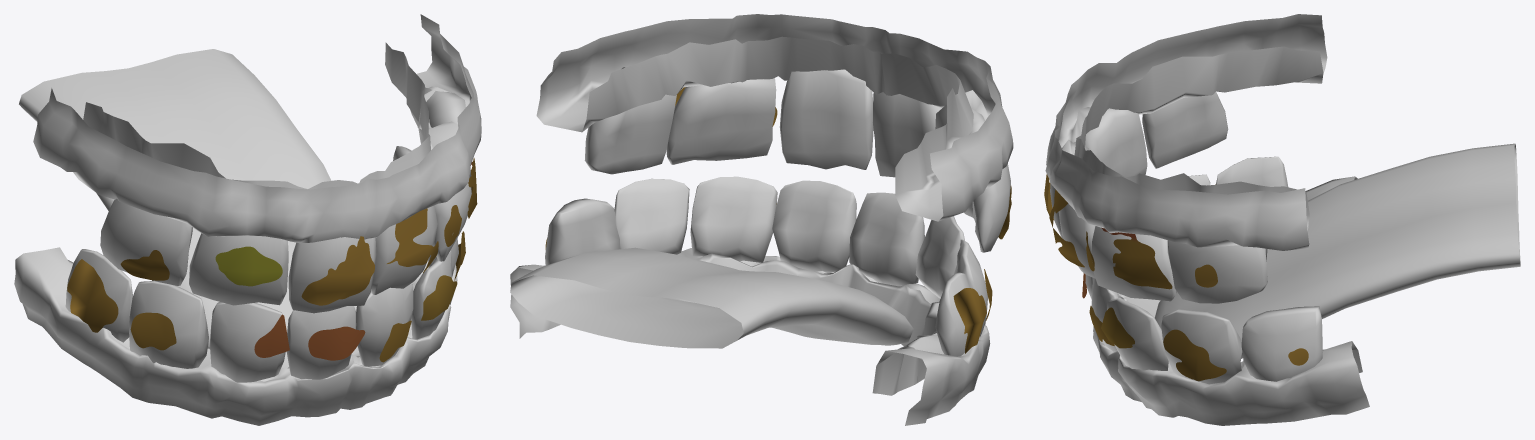
The model's file is tooth2.fbx.
3 views of the same model, side by side, from view 1: azimuth 30°, elevation 25°; view 2: azimuth 150°, elevation 25°; view 3: azimuth 270°, elevation 25° (orthographic). The views are drawn at different scales.
Visible parts, largest first — view 1: tooth1, polySurface26, polySurface27, polySurface29, polySurface24, polySurface25, polySurface28; view 2: tooth1, polySurface26; view 3: tooth1, polySurface25, polySurface28, polySurface27.
Boxes of the visible parts, x1,y1,x2,y2 form: tooth1: (14,14,481,425); polySurface26: (67,259,289,357); polySurface27: (301,208,438,305); polySurface29: (120,246,282,286); polySurface24: (308,320,411,362); polySurface25: (421,231,465,320); polySurface28: (444,158,477,246); tooth1: (510,14,1013,425); polySurface26: (953,269,992,353); tooth1: (1045,14,1520,425); polySurface25: (1101,307,1308,381); polySurface28: (1086,227,1217,289); polySurface27: (1044,174,1084,267).
Bounding box in the file's own units: 16.78 × 11.63 × 18.33.
